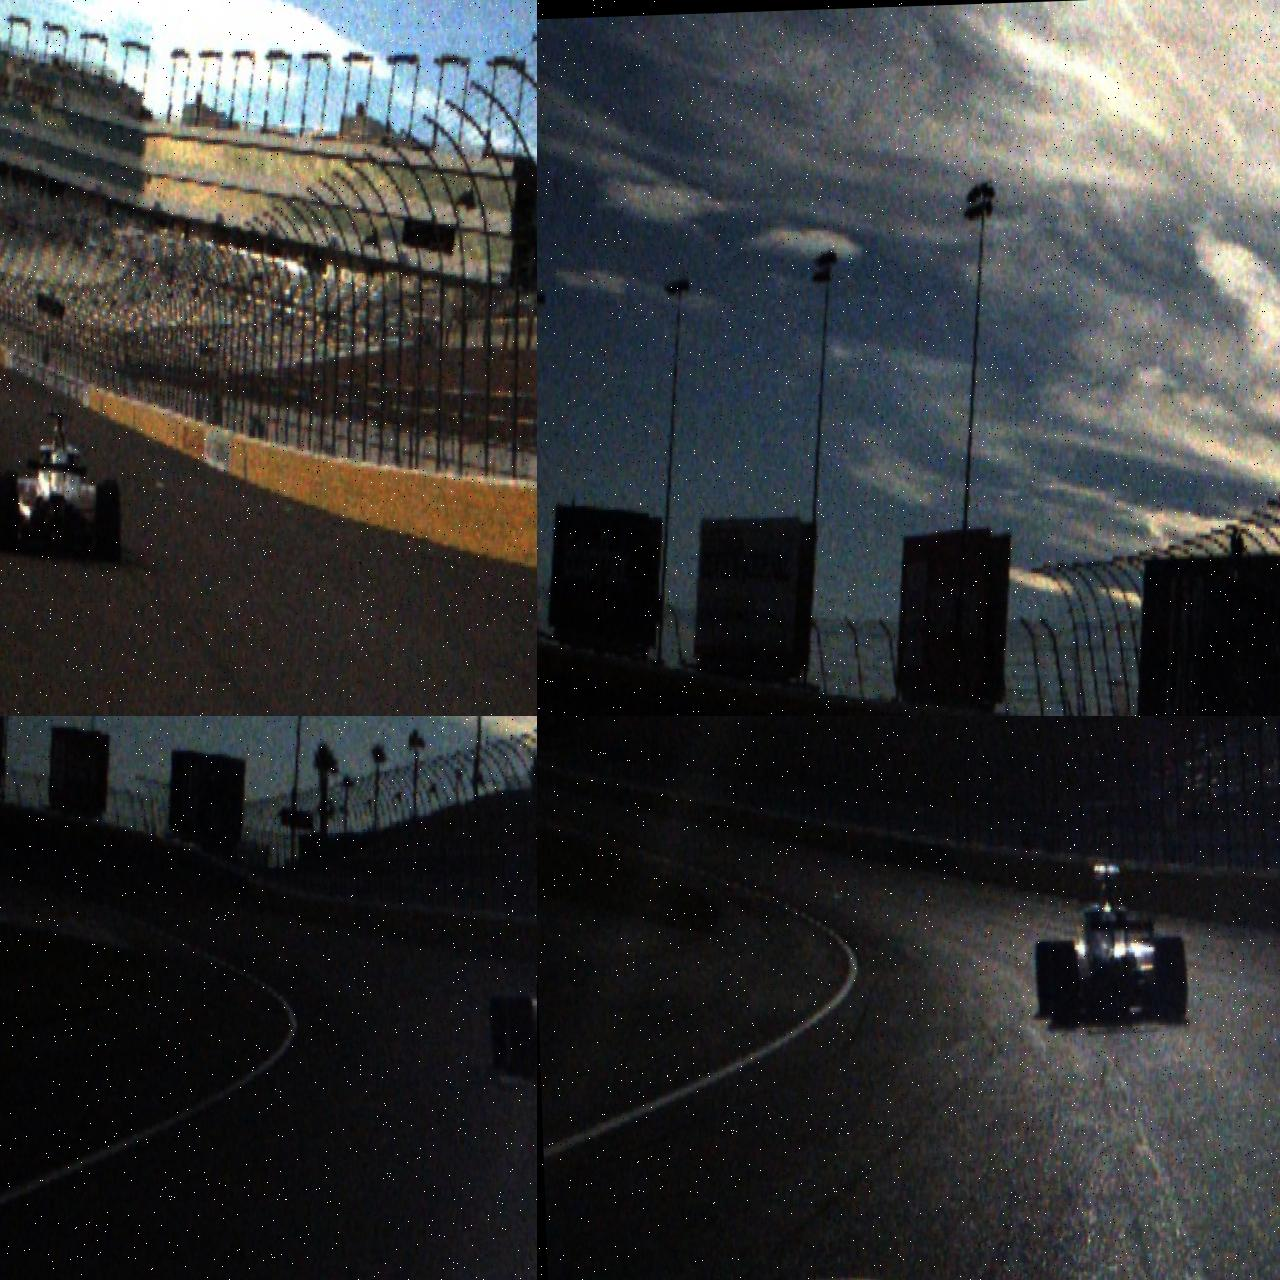AV: (1030, 862, 1189, 1029), (0, 407, 122, 568), (485, 921, 537, 1082)
Wheel: (1156, 934, 1187, 1022), (1048, 945, 1080, 1028), (502, 998, 533, 1076), (95, 479, 122, 565), (1034, 939, 1060, 1019), (488, 995, 511, 1069), (0, 474, 19, 556)
